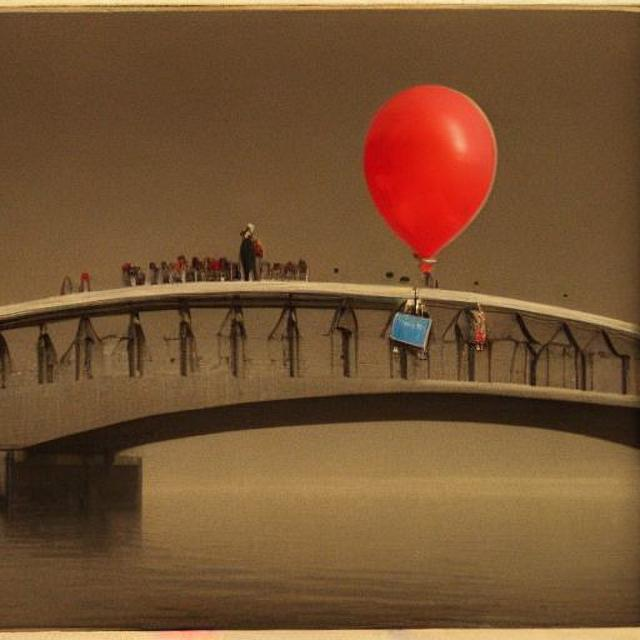balloon: (353, 81, 495, 285)
